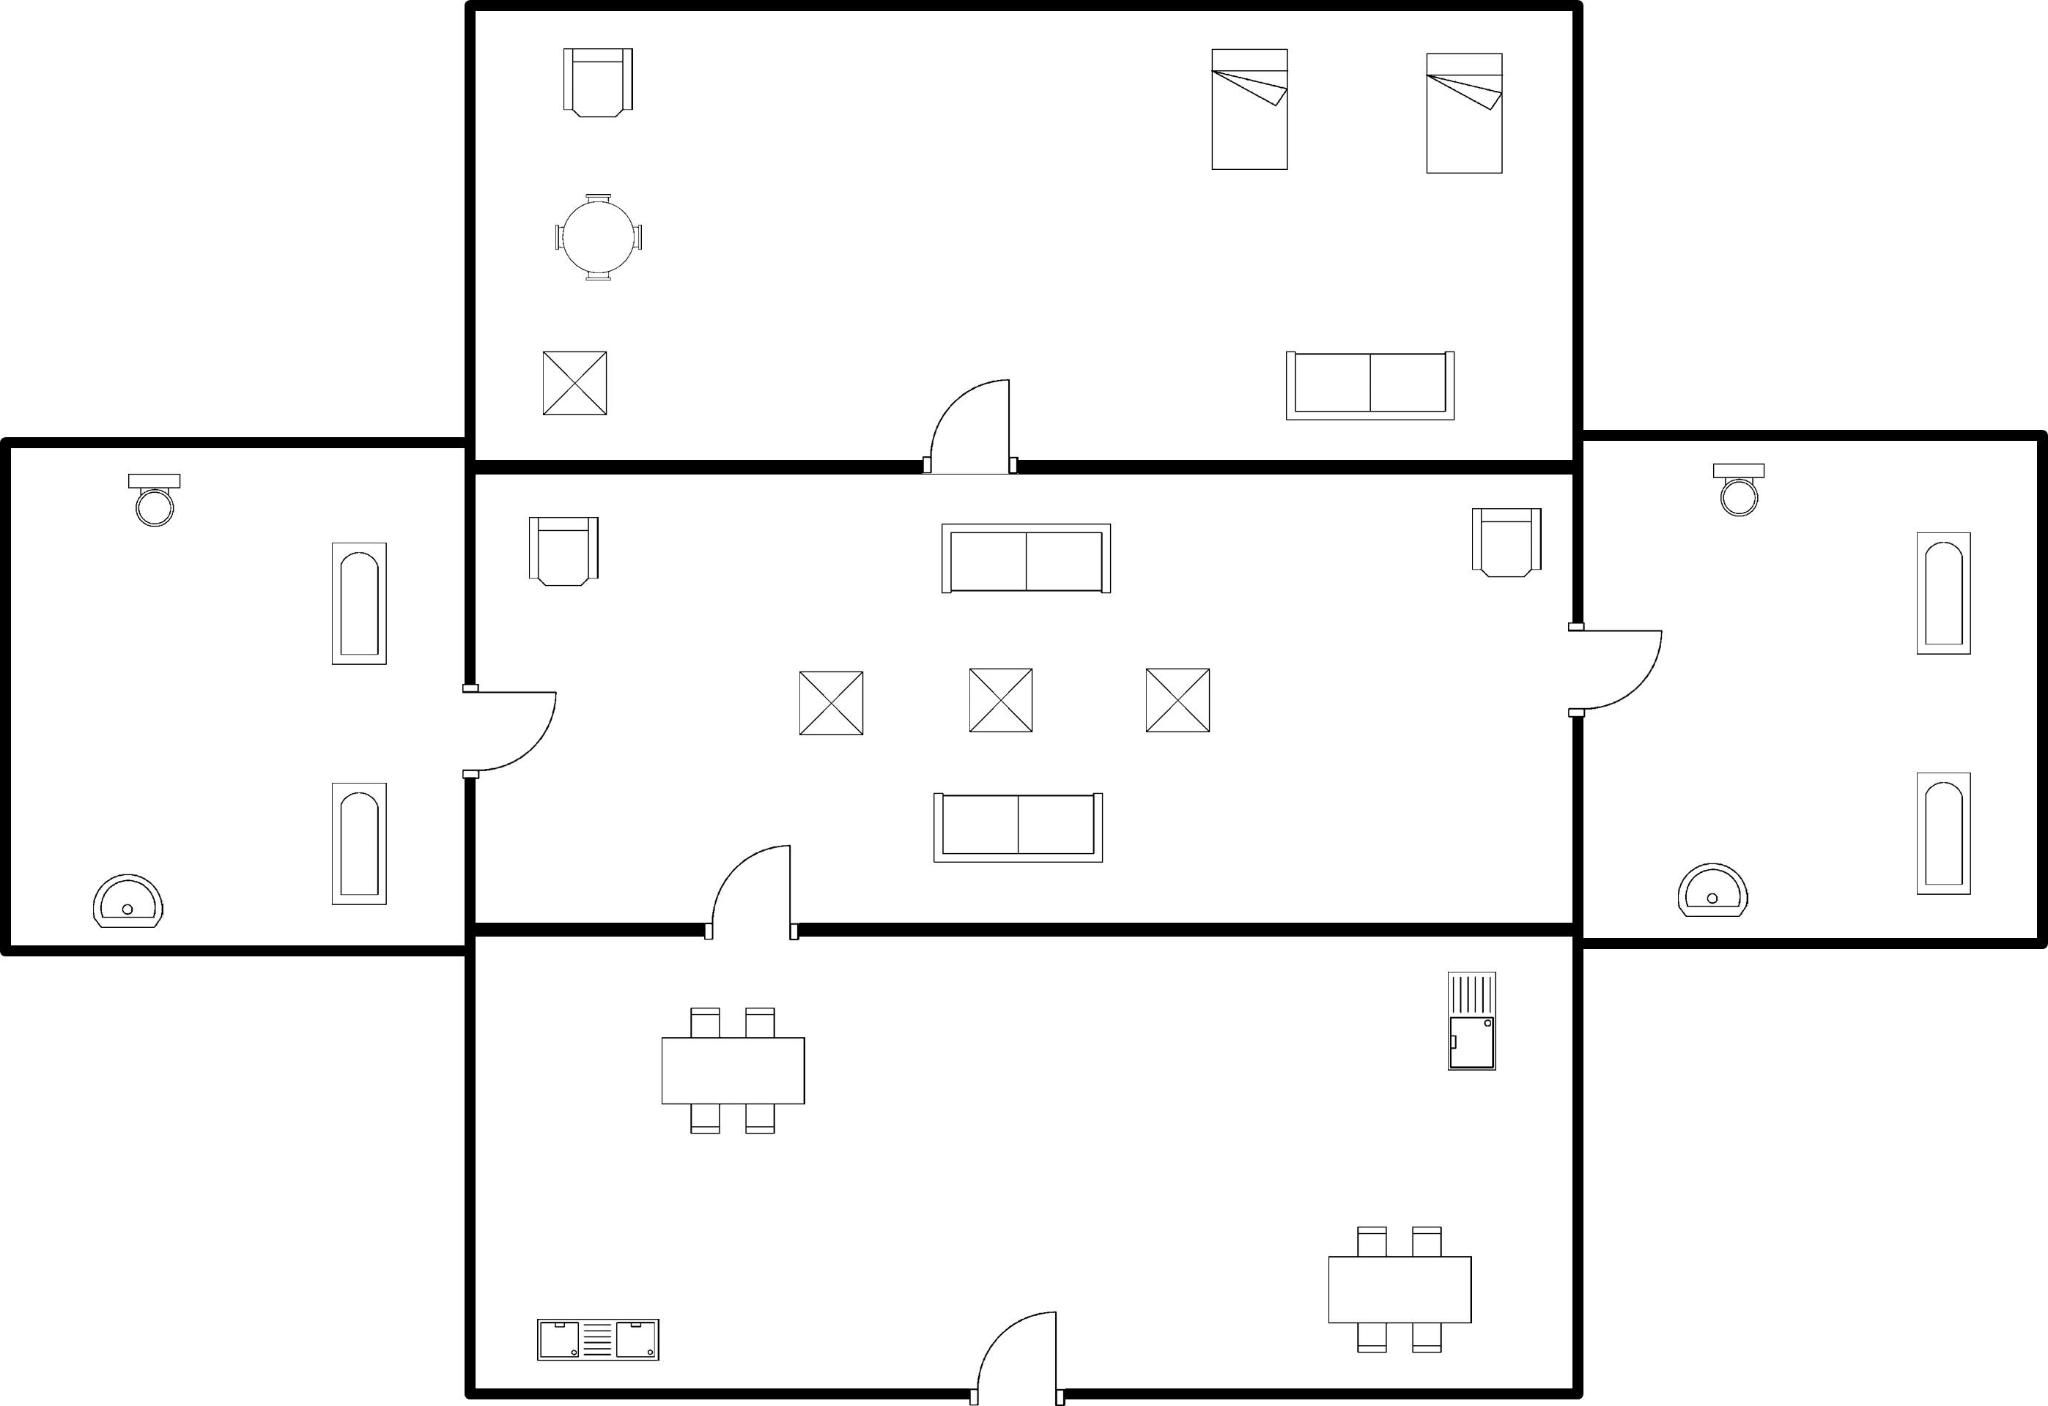sink: (526, 1311, 672, 1372)
